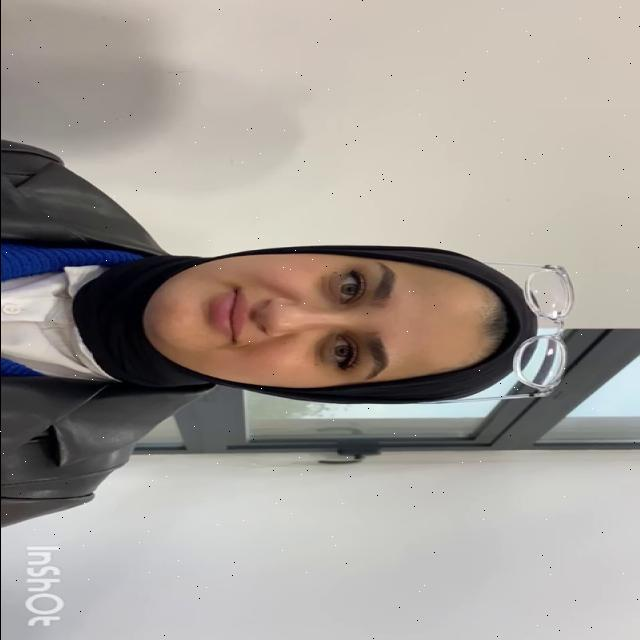happy: (145, 252, 497, 388)
